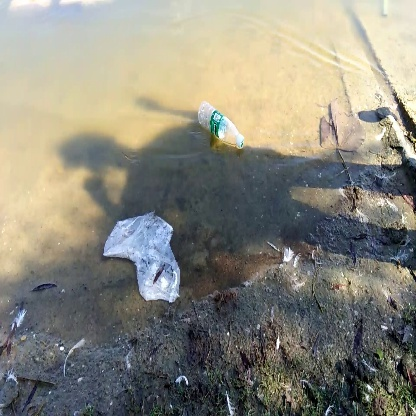bottle: (195, 96, 249, 153)
plastic-bag: (100, 206, 188, 305)
